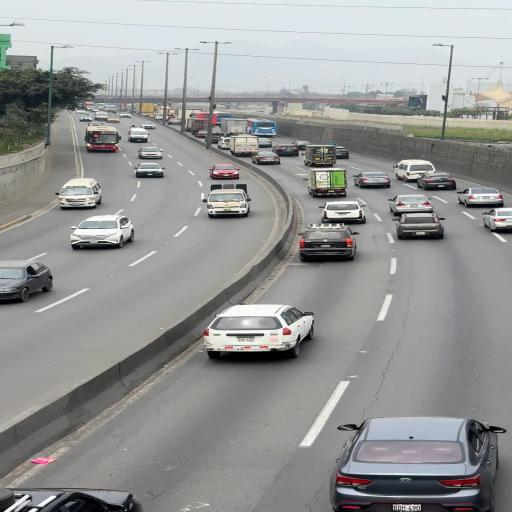auto: (326, 414, 498, 510), (203, 303, 314, 357), (1, 486, 139, 512), (296, 224, 358, 261), (69, 214, 134, 249), (0, 258, 54, 299), (395, 212, 445, 240), (204, 188, 250, 218), (318, 200, 366, 225), (387, 194, 433, 215), (457, 187, 503, 207), (480, 207, 512, 233), (415, 172, 456, 191), (353, 171, 392, 188), (134, 161, 165, 177), (208, 164, 240, 179), (252, 152, 281, 165), (138, 146, 164, 159), (128, 129, 150, 142), (272, 143, 300, 153), (208, 135, 231, 147), (294, 140, 310, 150), (258, 138, 272, 147), (141, 122, 156, 129), (258, 151, 277, 156), (79, 115, 92, 122), (107, 116, 120, 123), (211, 132, 226, 137), (120, 113, 132, 118)
bus: (56, 178, 102, 208), (306, 168, 349, 198), (84, 124, 120, 152), (394, 158, 436, 182), (245, 118, 277, 137), (194, 111, 228, 126), (157, 107, 176, 117), (94, 112, 108, 120), (124, 103, 136, 112), (104, 106, 118, 113), (84, 102, 94, 110)
camion: (302, 144, 336, 166), (228, 134, 260, 156), (221, 118, 250, 137), (185, 117, 207, 133), (139, 102, 157, 114)
